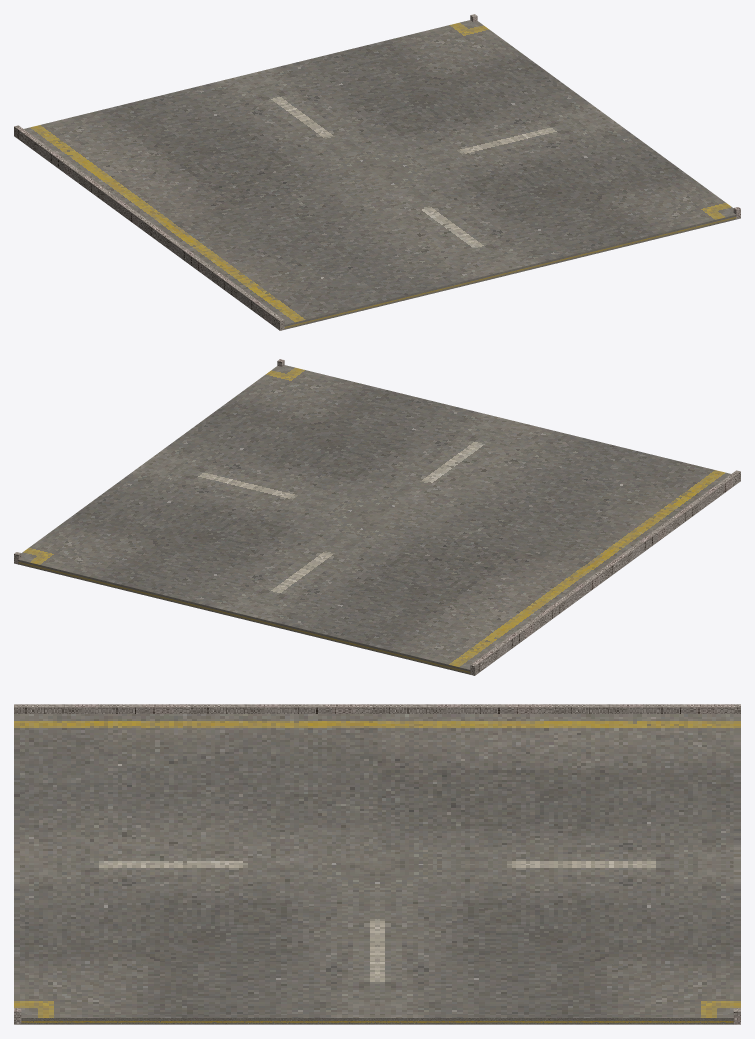
File: road_1_Tjunction_no_sides.glb
The picture shows the model from 3 angles, top to bottom: view 1: azimuth 30°, elevation 25°; view 2: azimuth 150°, elevation 25°; view 3: azimuth 270°, elevation 25°; orthographic projection. The views are drawn at different scales.
Parts seen in each view (by area): view 1: road_1_Tjunction_no_sides; view 2: road_1_Tjunction_no_sides; view 3: road_1_Tjunction_no_sides.
Boxes of the visible parts, x1,y1,x2,y2 form: road_1_Tjunction_no_sides: [14, 14, 740, 330]; road_1_Tjunction_no_sides: [14, 359, 740, 675]; road_1_Tjunction_no_sides: [14, 704, 740, 1024].
Bounding box in the file's own units: 16 × 0.32 × 16.
2 materials, 2 textured.
